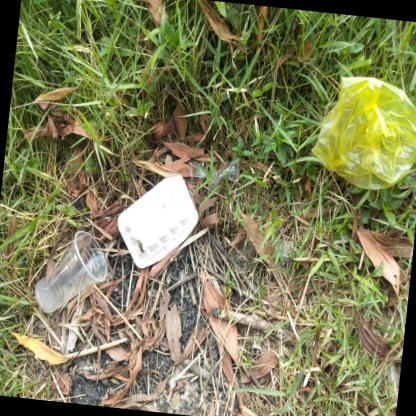Paper: (117, 173, 198, 267)
Plastic: (311, 75, 416, 189), (34, 229, 107, 312), (206, 162, 240, 187), (188, 155, 207, 183)
